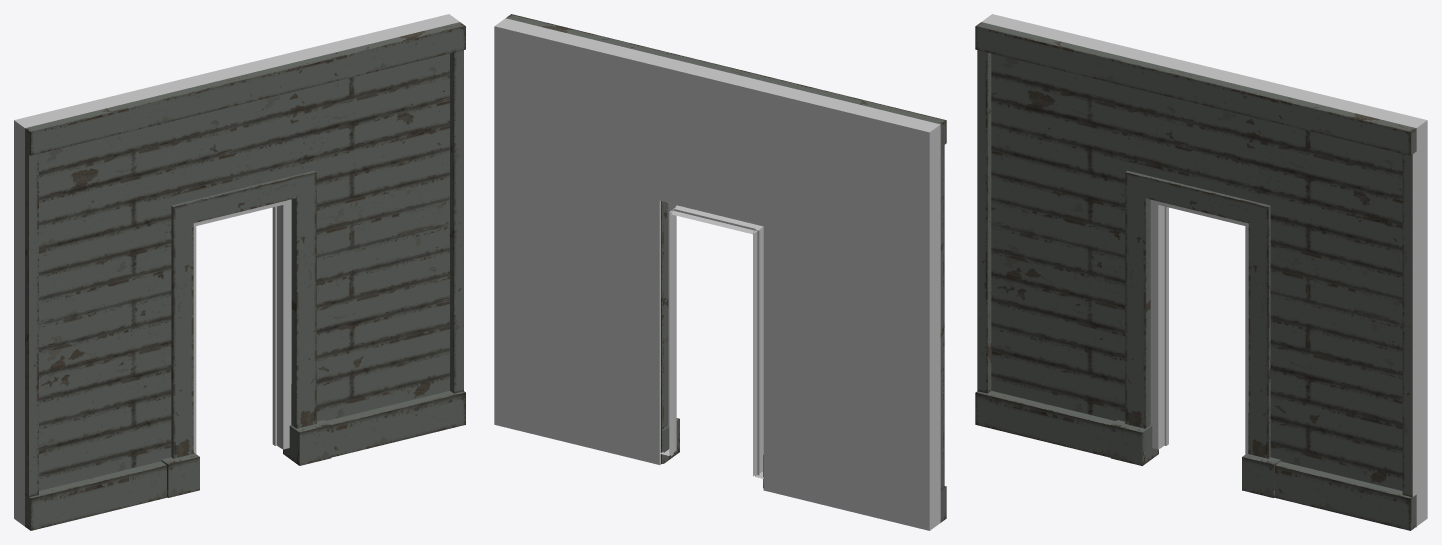
The model's file is SM_EWall400DoorA.FBX.
3 views of the same model, side by side, from view 1: azimuth 30°, elevation 25°; view 2: azimuth 150°, elevation 25°; view 3: azimuth 330°, elevation 25° (orthographic).
Parts seen in each view (by area): view 1: SM_EWall400DoorA; view 2: SM_EWall400DoorA; view 3: SM_EWall400DoorA.
Part boxes in pixels (x1,y1,x2,y2): SM_EWall400DoorA: (14, 14, 465, 530); SM_EWall400DoorA: (494, 14, 946, 530); SM_EWall400DoorA: (975, 14, 1427, 530).
Size of the model in its own units: 400 by 351 by 28.49.
